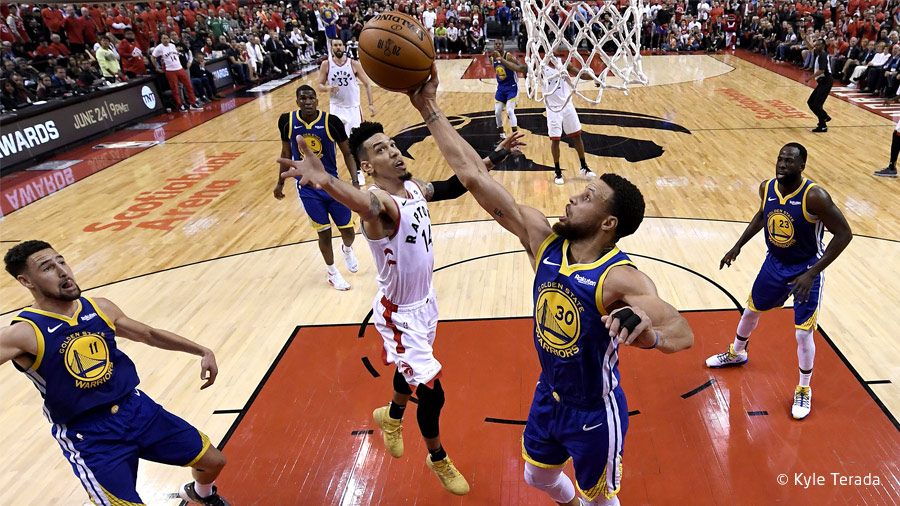basketball: (347, 4, 449, 100)
basketball_player: (427, 92, 704, 506), (1, 241, 233, 506), (296, 131, 461, 500), (710, 133, 863, 416)
basketball_referee: (790, 23, 843, 143)
basketball_rim: (514, 2, 653, 117)
